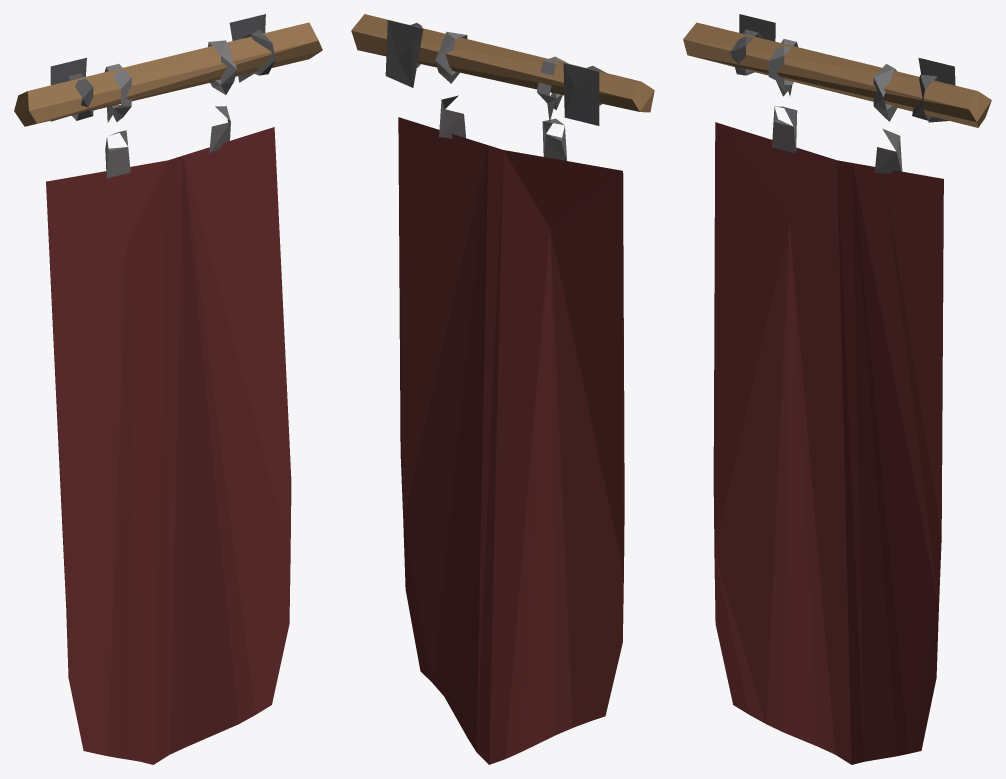
File: red-banner.lod1.glb
3 renders of one model, left to right at view 1: azimuth 30°, elevation 25°; view 2: azimuth 150°, elevation 25°; view 3: azimuth 330°, elevation 25°, orthographic.
Visible parts, largest first — view 1: Wooden holder_Wood_Mat_0; view 2: Wooden holder_Wood_Mat_0; view 3: Wooden holder_Wood_Mat_0.
Part boxes in pixels (x1,y1,x2,y2): Wooden holder_Wood_Mat_0: [14, 14, 322, 764]; Wooden holder_Wood_Mat_0: [351, 14, 654, 764]; Wooden holder_Wood_Mat_0: [683, 14, 991, 764].
Bounding box in the file's own units: 1.08 × 2.57 × 0.1664.
